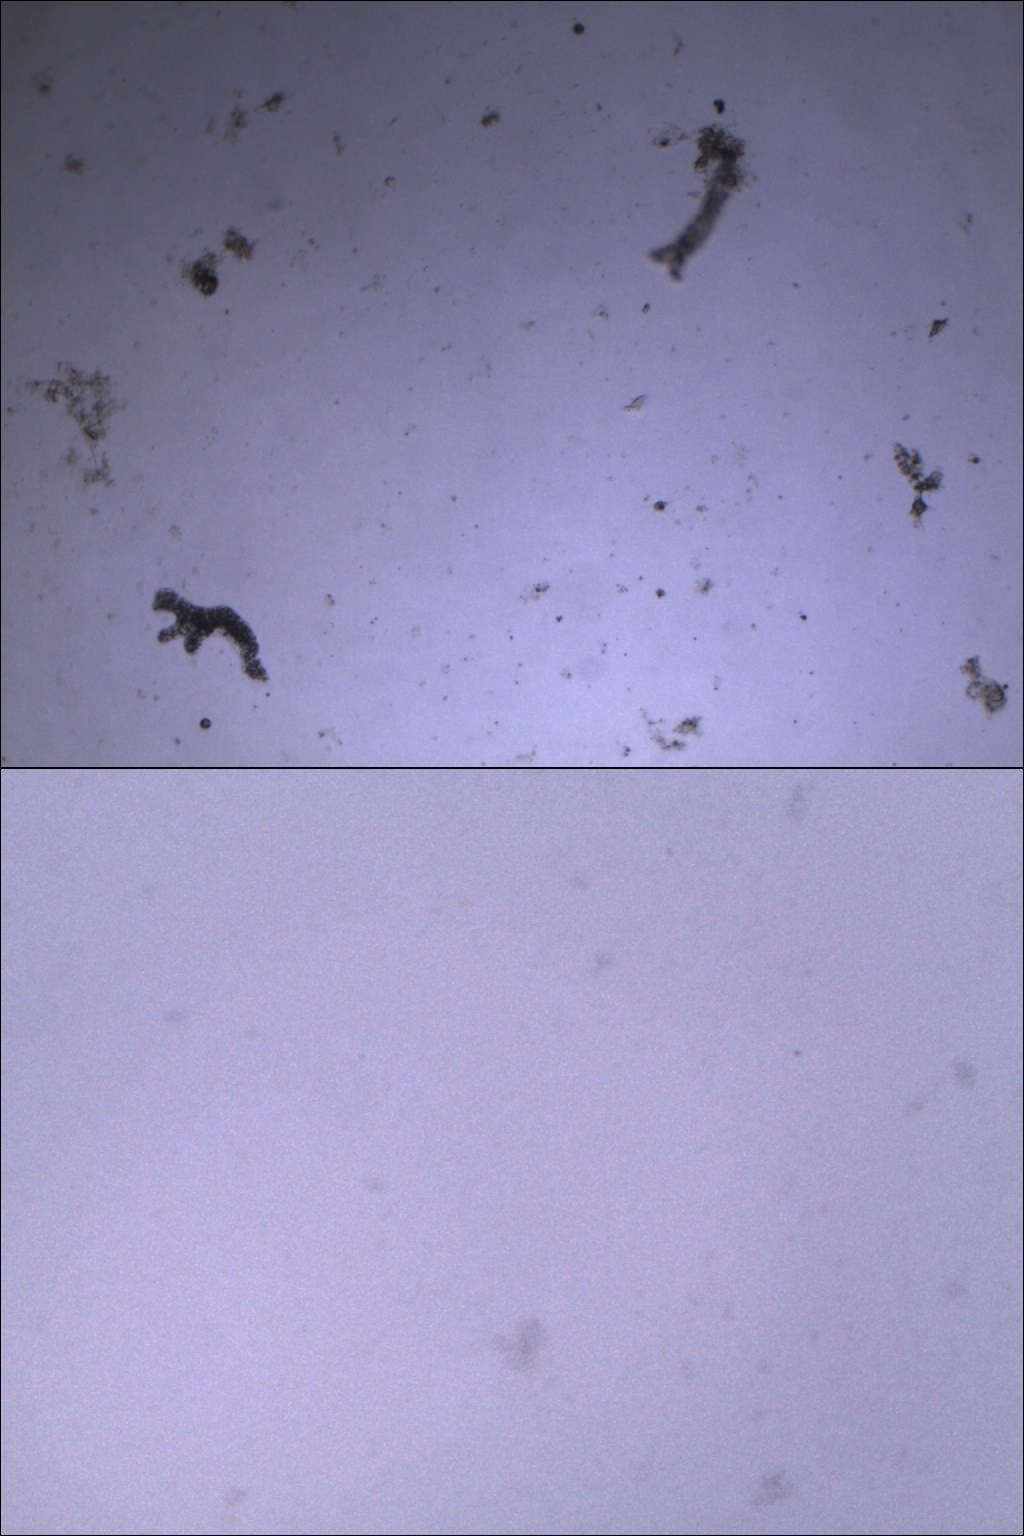N.Fowleri Amoeba: (461, 1288, 568, 1401)
Proteus Amoeba: (138, 577, 282, 698)
